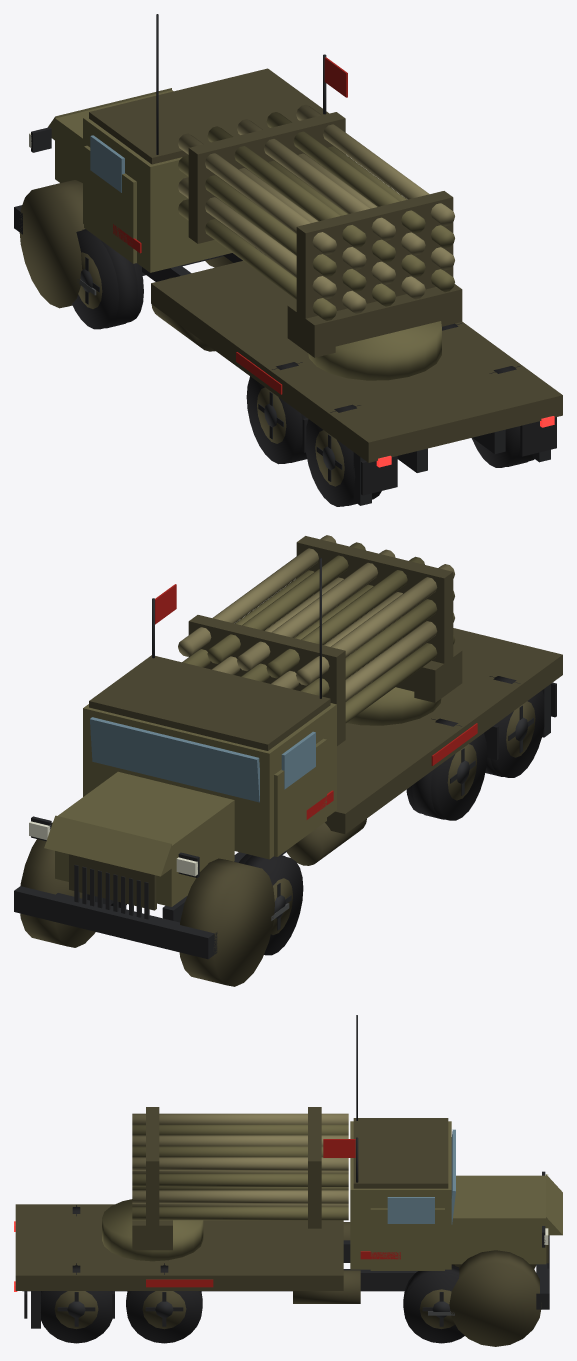
The model's file is MLRS_Red.fbx.
3 renders of one model, top to bottom at view 1: azimuth 30°, elevation 25°; view 2: azimuth 150°, elevation 25°; view 3: azimuth 270°, elevation 25°, orthographic. The views are drawn at different scales.
Parts seen in each view (by area): view 1: Platform, CabRoof, TubeFrame, Cab, FenderArchL, LauncherCradle, LauncherBase, TubeFrameFront, DoorL1Panel, Tube0_3, Tube1_3, Tube3_3 (+24 smaller); view 2: Platform, CabRoof, Bonnet, FenderArchL, Cab, Windshield, Bumper, TubeFrame, TubeFrameFront, BonnetFront, DoorL1Panel, FenderArchR (+25 smaller); view 3: Platform, Bonnet, FenderArchR, CabRoof, DoorR1Panel, Cab, LauncherBase, Tube4_0, Tube4_1, Tube4_2, Tube4_3, Tube0_3 (+23 smaller).
Part boxes in pixels (x1,y1,x2,y2): Platform: (151,258,562,462); CabRoof: (89,68,329,164); TubeFrame: (296,191,453,322); Cab: (83,116,246,272); FenderArchL: (19,180,84,308); LauncherCradle: (287,284,462,357); LauncherBase: (308,321,441,380); TubeFrameFront: (188,112,345,243); DoorL1Panel: (84,145,136,263); Tube0_3: (178,133,336,254); Tube1_3: (207,126,366,247); Tube3_3: (266,112,425,233); Platform: (325,628,562,834); CabRoof: (89,655,330,750); Bonnet: (55,771,234,906); FenderArchL: (179,858,274,986); Cab: (83,703,336,859); Windshield: (90,717,259,802); Bumper: (14,886,217,959); TubeFrame: (296,536,453,663); TubeFrameFront: (188,615,345,745); BonnetFront: (44,815,171,876); DoorL1Panel: (274,738,326,856); FenderArchR: (20,822,95,947); Platform: (15,1204,343,1290); Bonnet: (451,1175,546,1264); FenderArchR: (449,1250,541,1346); CabRoof: (353,1118,448,1188); DoorR1Panel: (370,1208,444,1270); Cab: (350,1121,451,1269); LauncherBase: (102,1199,203,1261); Tube4_0: (132,1206,348,1220); Tube4_1: (132,1190,348,1203); Tube4_2: (132,1173,348,1186); Tube4_3: (132,1157,348,1170); Tube0_3: (132,1113,348,1124).
Bounding box in the file's own units: 253 × 812 × 434.
